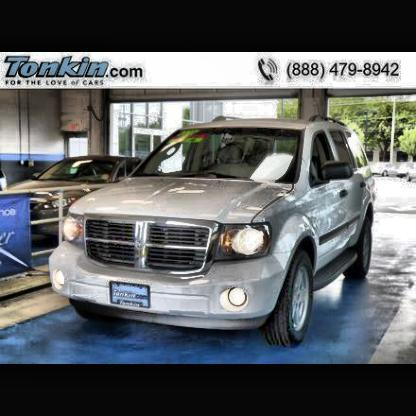Dodge Durango SUV 2007: (38, 109, 394, 357)
